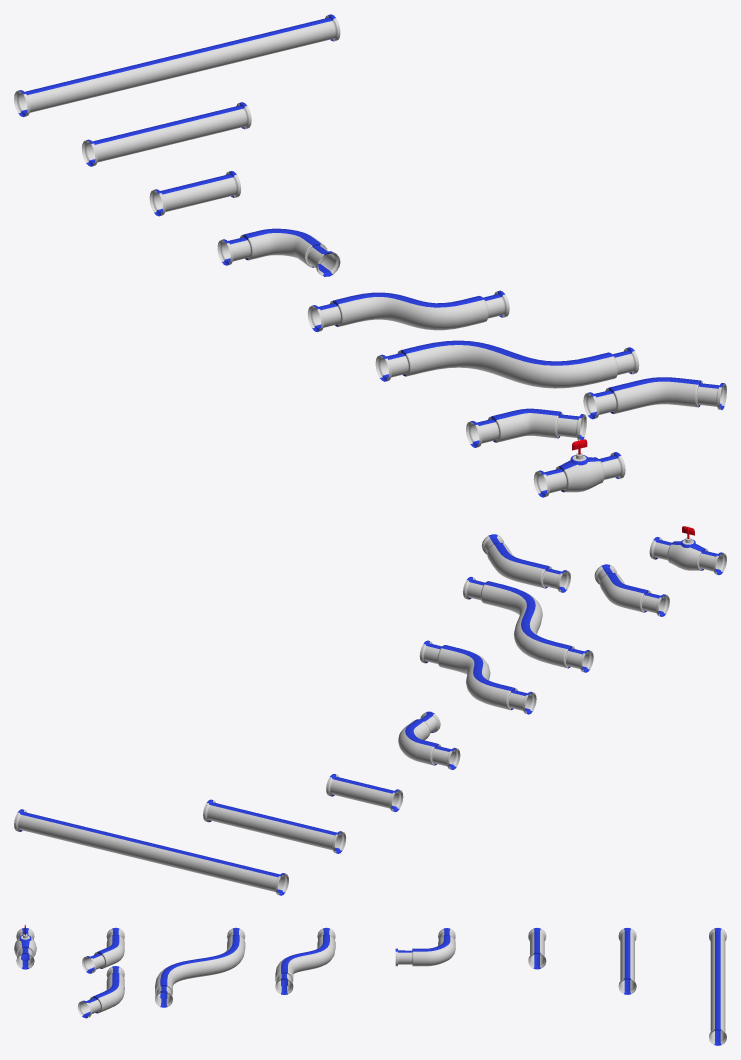
The model's file is Pipes_V2.fbx.
The picture shows the model from 3 angles, top to bottom: view 1: azimuth 30°, elevation 25°; view 2: azimuth 150°, elevation 25°; view 3: azimuth 270°, elevation 25°; orthographic projection. The views are drawn at different scales.
Visible parts, largest first — view 1: Straight_Long, S_Curve_Long, S_Curve_Short, Straight, 45_Curve_V2, 90_Curve, 45_Curve, Valve, Straight_Short; view 2: Straight_Long, S_Curve_Long, S_Curve_Short, Straight, 45_Curve_V2, 90_Curve, 45_Curve, Valve, Straight_Short; view 3: S_Curve_Long, Straight_Long, S_Curve_Short, 90_Curve, 45_Curve_V2, 45_Curve, Straight, Valve, Straight_Short.
Part boxes in pixels (x1,y1,x2,y2): Straight_Long: (14,14,340,116); S_Curve_Long: (375,340,639,388); S_Curve_Short: (307,290,509,332); Straight: (81,102,251,166); 45_Curve_V2: (583,377,726,419); 90_Curve: (217,228,340,276); 45_Curve: (466,408,586,447); Valve: (533,452,625,497); Straight_Short: (149,171,241,216); Straight_Long: (14,809,288,895); S_Curve_Long: (463,577,593,672); S_Curve_Short: (419,640,536,714); Straight: (203,799,346,853); 45_Curve_V2: (481,534,570,592); 90_Curve: (398,711,460,769); 45_Curve: (594,564,669,616); Valve: (649,537,726,575); Straight_Short: (326,774,403,812); S_Curve_Long: (155,927,245,1007); Straight_Long: (709,928,726,1045); S_Curve_Short: (275,927,335,994); 90_Curve: (395,928,455,966); 45_Curve_V2: (78,966,124,1018); 45_Curve: (82,927,124,973); Straight: (618,927,636,994); Valve: (14,928,36,969); Straight_Short: (528,927,546,969).
Size of the model in its own units: 800 by 124 by 2368.
